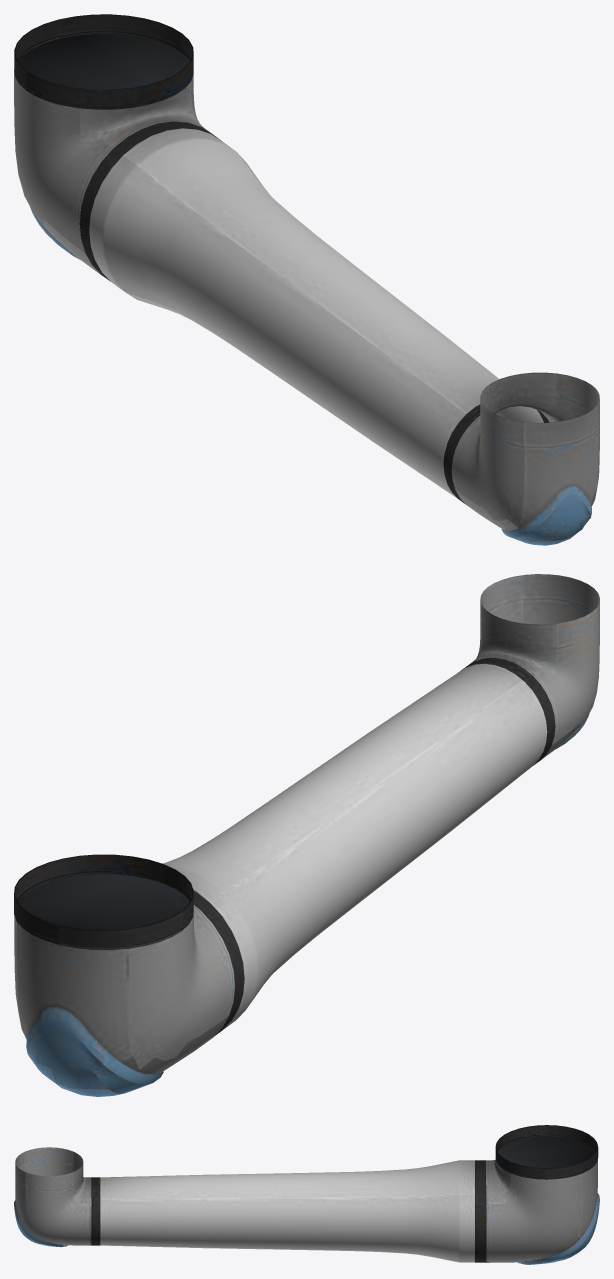
File: forearm_link.glb
The picture shows the model from 3 angles, top to bottom: view 1: azimuth 30°, elevation 25°; view 2: azimuth 150°, elevation 25°; view 3: azimuth 270°, elevation 25°; orthographic projection. The views are drawn at different scales.
Parts seen in each view (by area): view 1: elbow-mesh_009, elbow-mesh_007, elbow-mesh_001, elbow-mesh_008; view 2: elbow-mesh_009, elbow-mesh_007, elbow-mesh_001, elbow-mesh_008; view 3: elbow-mesh_009, elbow-mesh_007, elbow-mesh_001, elbow-mesh_008.
Boxes of the visible parts, left/top/right/bottom form: elbow-mesh_009: left=89, top=128, right=543, bottom=498; elbow-mesh_007: left=14, top=31, right=599, bottom=530; elbow-mesh_001: left=14, top=14, right=549, bottom=504; elbow-mesh_008: left=30, top=207, right=591, bottom=545; elbow-mesh_009: left=163, top=663, right=547, bottom=1029; elbow-mesh_007: left=14, top=574, right=599, bottom=1074; elbow-mesh_001: left=14, top=658, right=555, bottom=1036; elbow-mesh_008: left=26, top=714, right=589, bottom=1096; elbow-mesh_009: left=100, top=1160, right=474, bottom=1262; elbow-mesh_007: left=15, top=1135, right=597, bottom=1262; elbow-mesh_001: left=91, top=1125, right=598, bottom=1262; elbow-mesh_008: left=14, top=1193, right=599, bottom=1264.
Size of the model in its own units: 0.1505 by 0.1834 by 0.8583.
1 material, 1 textured.
